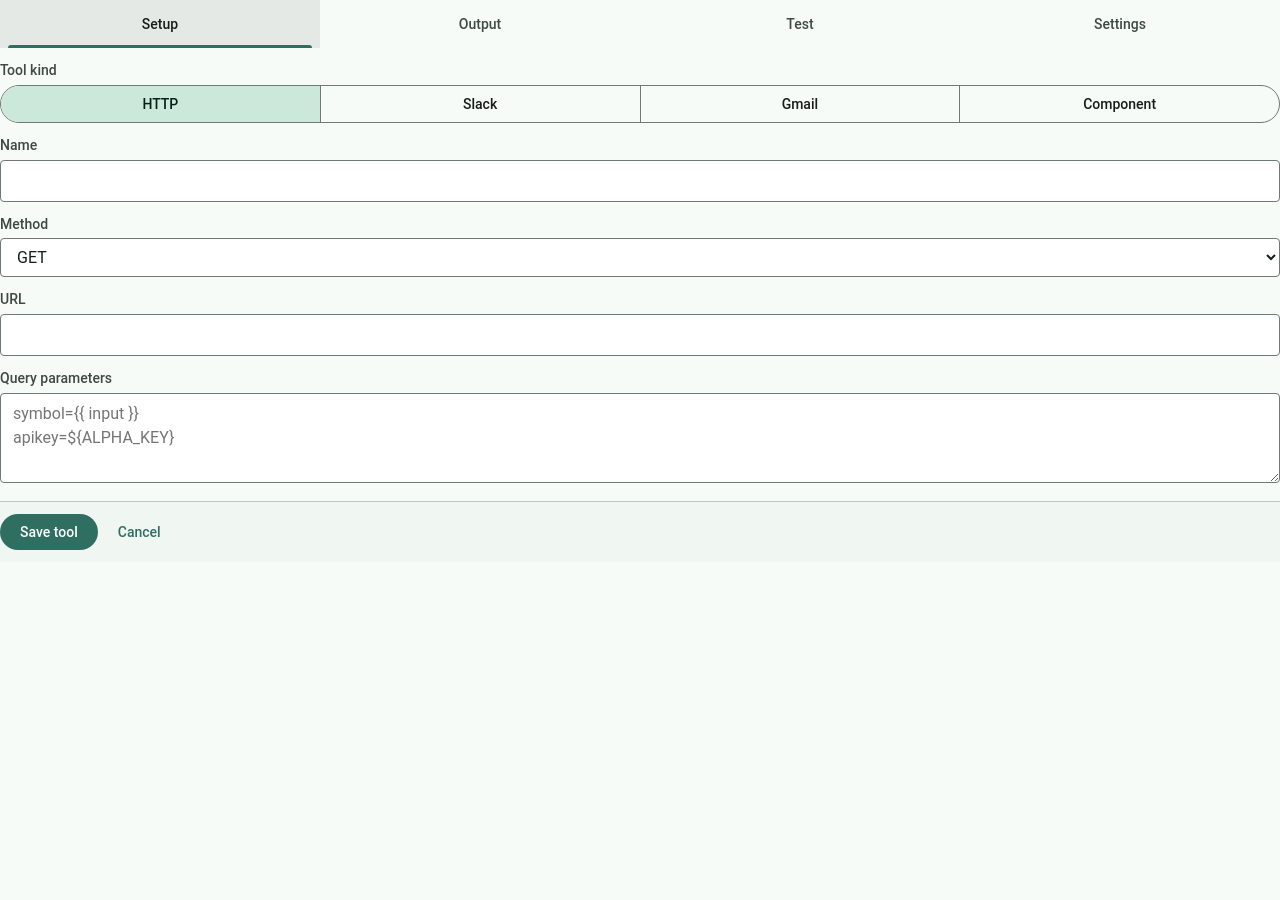
Test: Component kind › reminds the author to pin the component, since a run refuses an unpinned one
Click the button "Component".
click(1120, 104)  # box [960,86,1279,122]
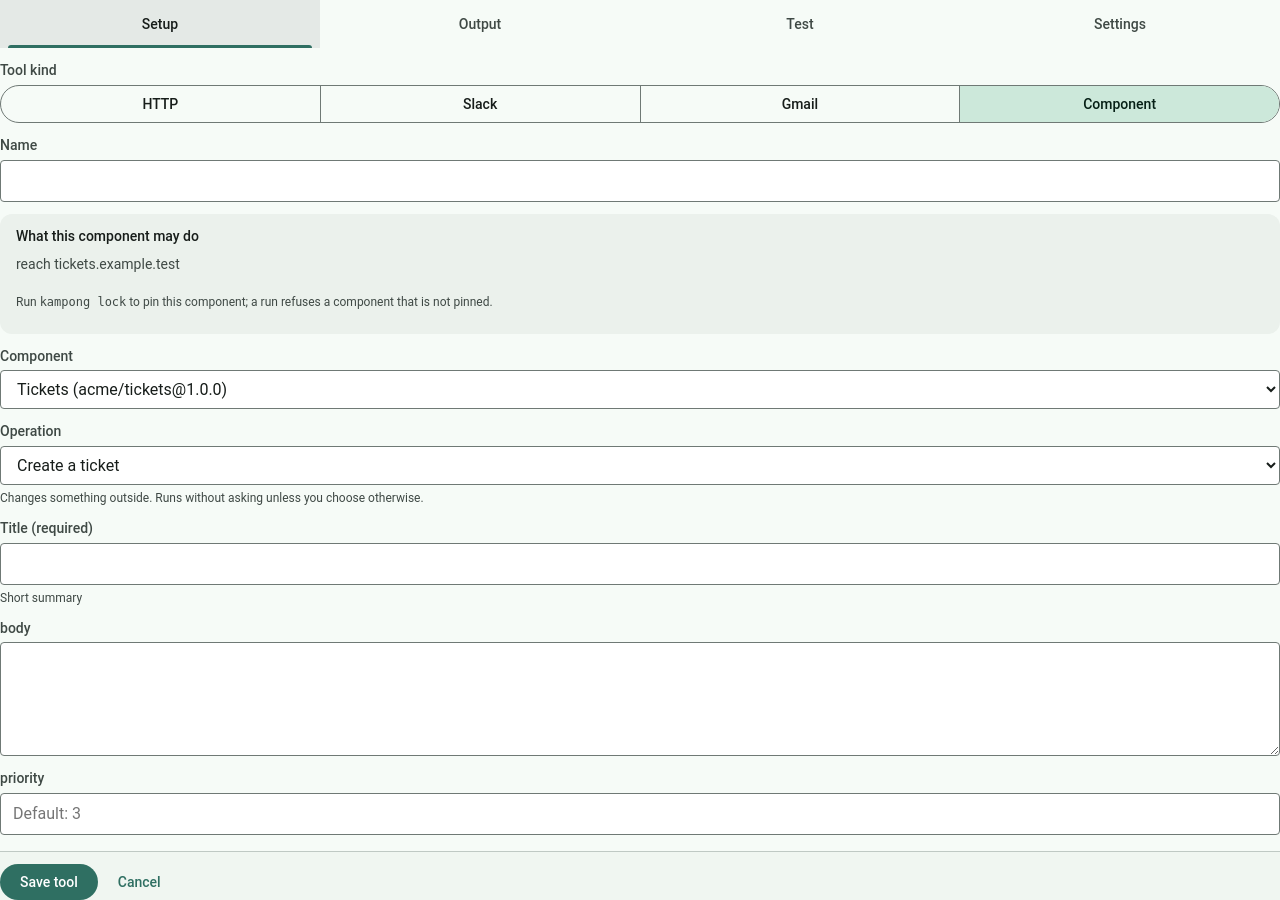
Now the text "kampong lock" is shown, box [40,295,126,309]
